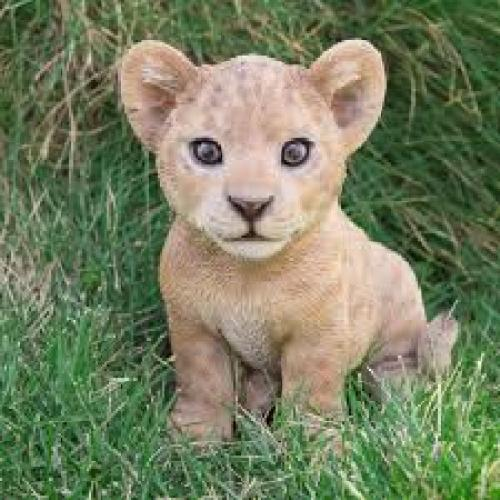lion-endangered: (123, 37, 449, 436)
